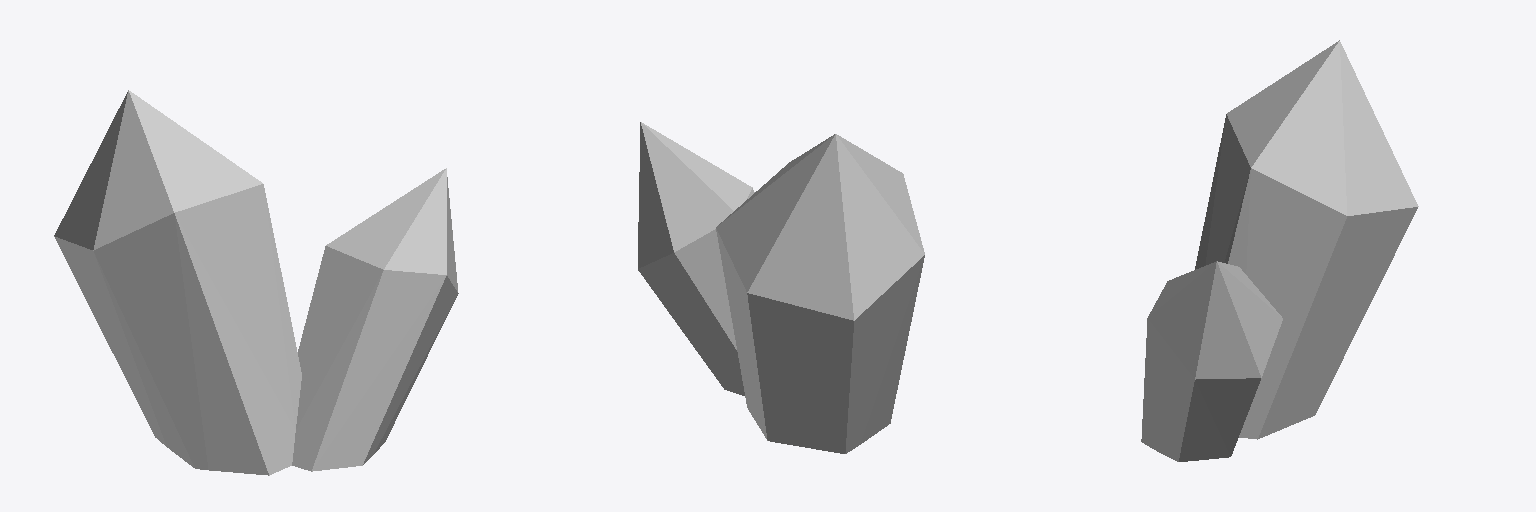
The model's file is crystal.obj.
3 views of the same model, side by side, from view 1: azimuth 30°, elevation 25°; view 2: azimuth 150°, elevation 25°; view 3: azimuth 270°, elevation 25° (orthographic).
Visible parts, largest first — view 1: Blue_Crystal; view 2: Blue_Crystal; view 3: Blue_Crystal.
Boxes of the visible parts, x1=… form: Blue_Crystal: x1=54, y1=90, x2=458, y2=475; Blue_Crystal: x1=638, y1=122, x2=924, y2=453; Blue_Crystal: x1=1141, y1=40, x2=1418, y2=461.
Bounding box in the file's own units: 20 × 20.08 × 15.01.